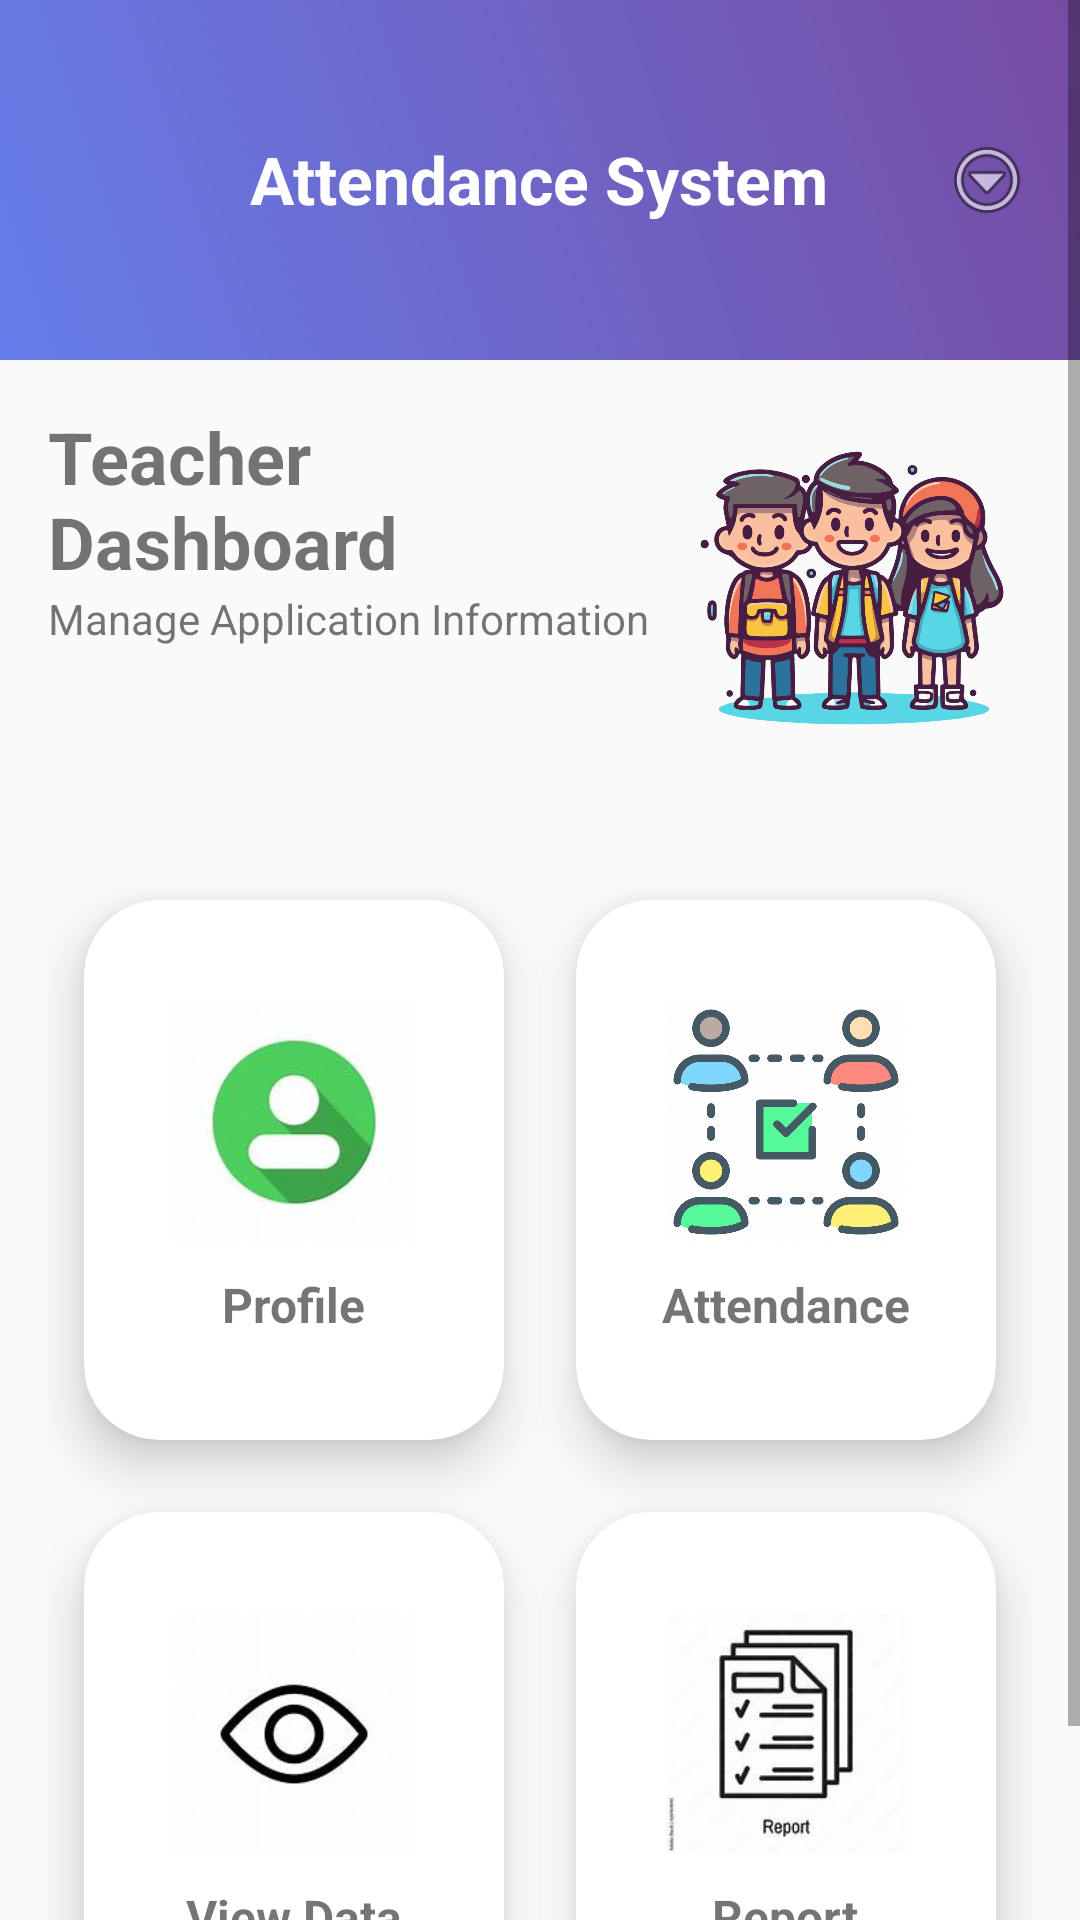

Screen size 1080×1920. Icon name, then its center in pixels as (x=x, y=y):
more: (x=987, y=180)
